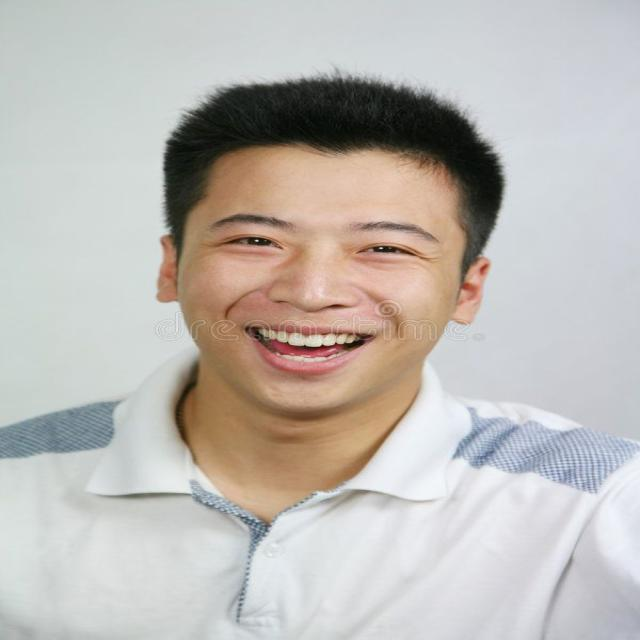sem_oculos: (135, 195, 501, 269)
